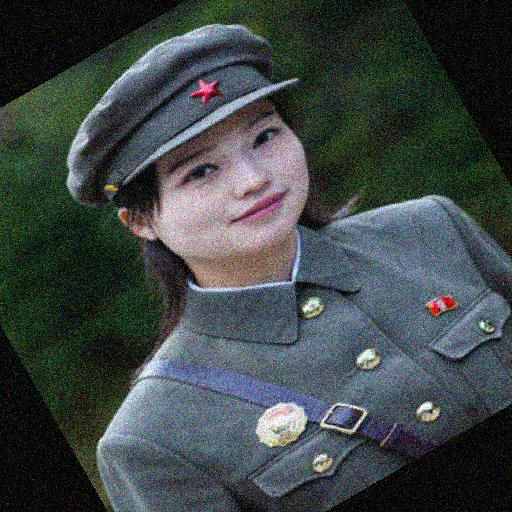north army: (48, 20, 512, 506)
